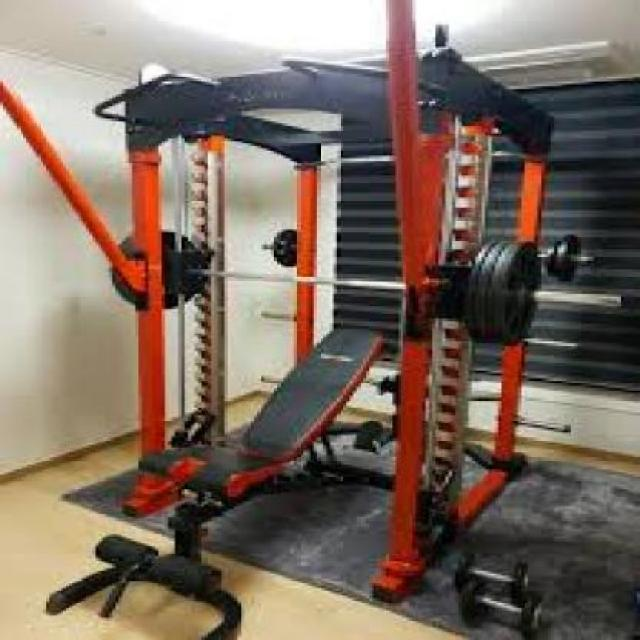smith machine: (94, 28, 591, 606)
